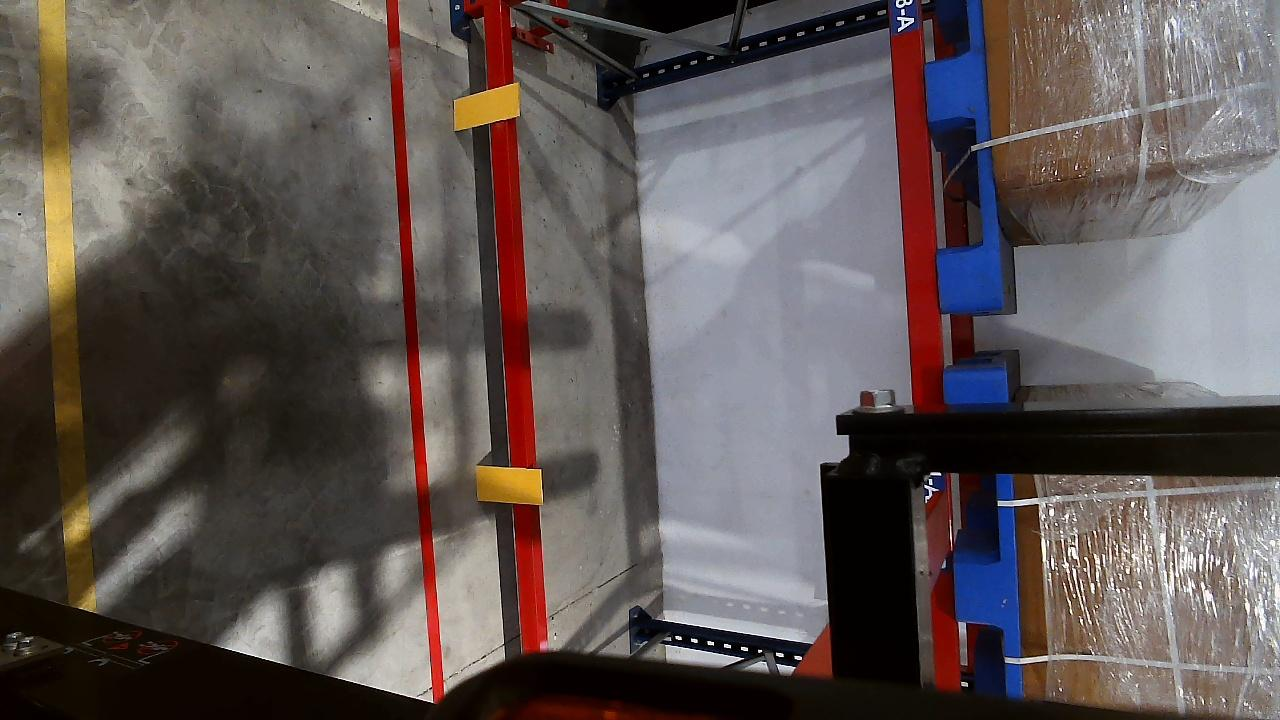h_rack: (885, 0, 966, 693), (482, 7, 548, 650)
orange_strip: (452, 83, 521, 129), (476, 466, 543, 505)
red_line: (376, 0, 462, 687)
small_pallet: (915, 0, 1008, 305), (939, 367, 1021, 699)
yellow_line: (32, 0, 117, 606)
